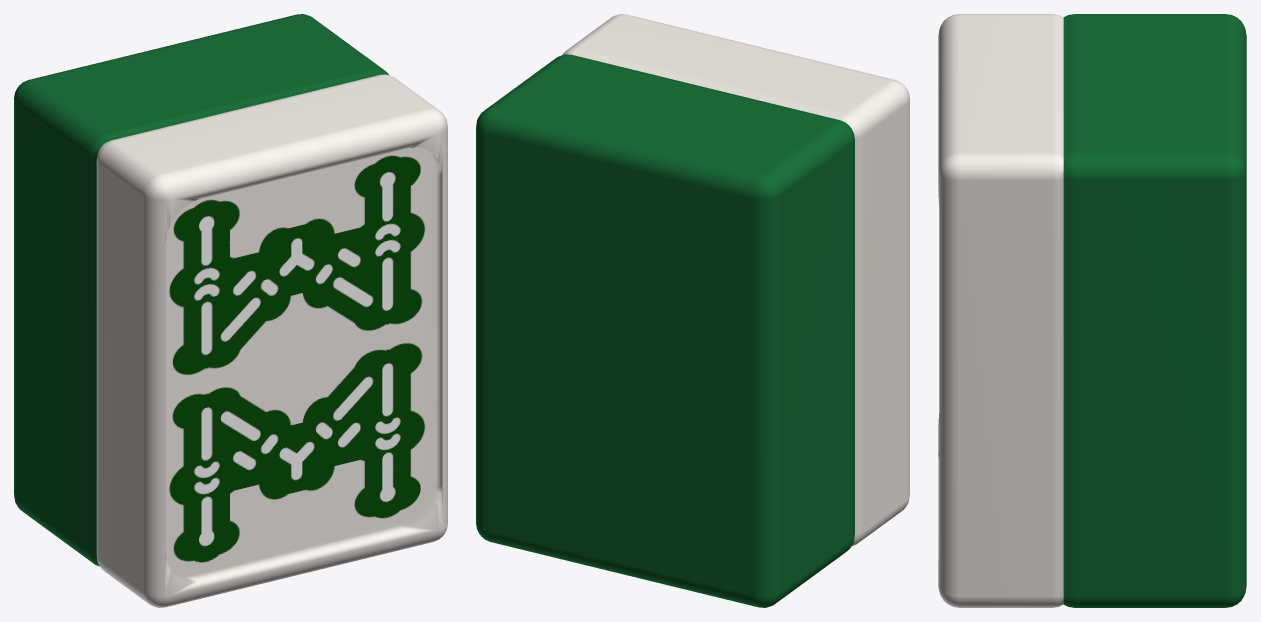
Rendered from sou8-x0mb4jbm.glb.
3 renders of one model, left to right at view 1: azimuth 30°, elevation 25°; view 2: azimuth 150°, elevation 25°; view 3: azimuth 270°, elevation 25°, orthographic. The views are drawn at different scales.
Parts seen in each view (by area): view 1: TileBody, FacePanel; view 2: TileBody; view 3: TileBody.
Part boxes in pixels (x1=…): TileBody: x1=14, y1=14, x2=447, y2=607; FacePanel: x1=165, y1=148, x2=428, y2=569; TileBody: x1=476, y1=14, x2=909, y2=607; TileBody: x1=938, y1=14, x2=1246, y2=607.
Bounding box in the file's own units: 19 × 26 × 16.
Materials: 3 (1 with a texture image).
